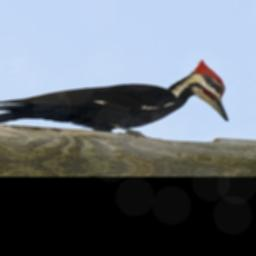Woodpecker: (0, 44, 240, 141)
